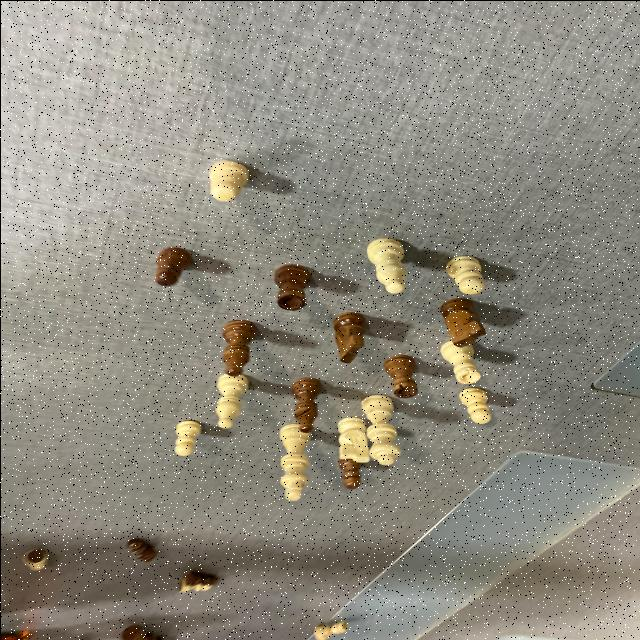Black-Bishop: (220, 318, 256, 376), (288, 376, 322, 432)
Black-Knight: (438, 296, 486, 346), (332, 310, 366, 362)
Black-Pawn: (153, 246, 190, 286), (337, 456, 361, 490)
Black-Rook: (272, 263, 310, 311), (380, 354, 418, 398)
White-Bishop: (365, 238, 407, 294), (212, 372, 248, 428)
White-King: (276, 422, 311, 500)
White-Knight: (334, 416, 369, 462)
White-Pawn: (204, 159, 248, 201), (444, 254, 484, 294), (456, 386, 491, 424), (171, 418, 201, 456)
White-Queen: (358, 393, 402, 465)
White-Rook: (438, 339, 480, 383)
